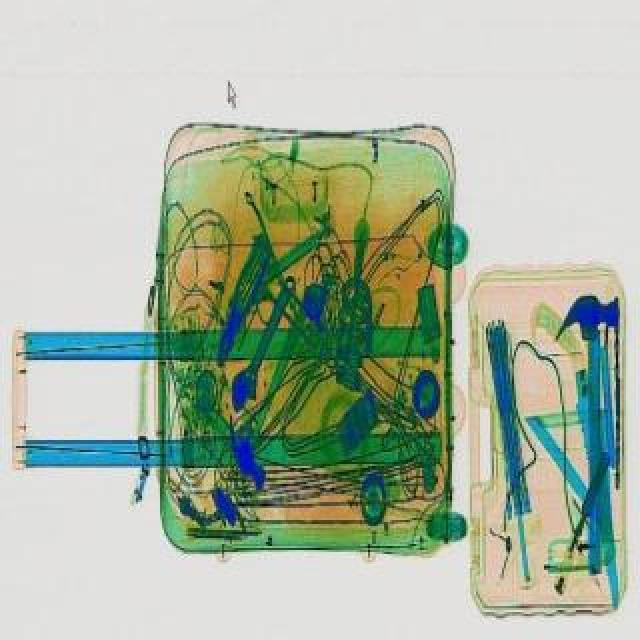scissors: (220, 268, 304, 416)
wrench: (204, 244, 272, 368)
